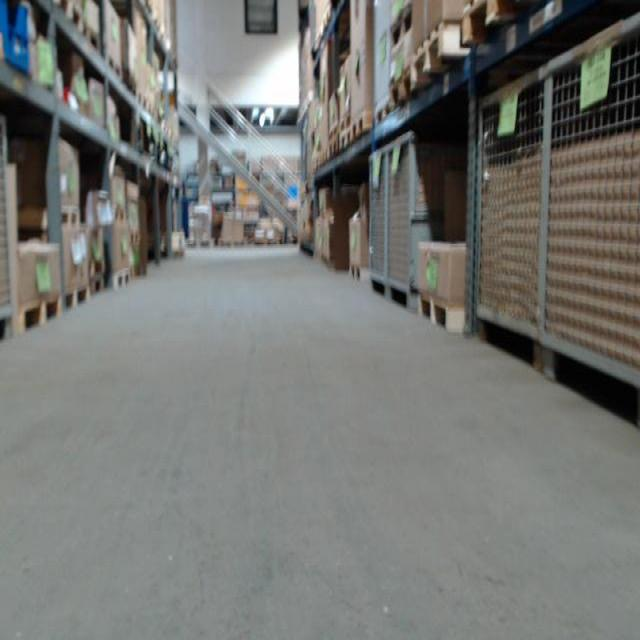pallet: (413, 22, 462, 94), (460, 2, 528, 49), (14, 291, 64, 335), (416, 297, 467, 331), (53, 0, 86, 35), (389, 7, 414, 49), (389, 69, 413, 112), (350, 110, 372, 143), (61, 285, 89, 310), (80, 23, 101, 54), (104, 54, 124, 82), (340, 124, 355, 154), (111, 268, 132, 289), (56, 210, 80, 227), (217, 235, 247, 248), (347, 264, 370, 280), (184, 238, 216, 249), (375, 103, 390, 124), (328, 139, 340, 159), (252, 238, 282, 245)
small_load_carrier: (3, 3, 38, 81)
stillage: (541, 7, 639, 436), (461, 52, 553, 368), (387, 127, 465, 321), (0, 112, 17, 347), (365, 142, 388, 304)
